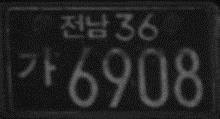0: (137, 47, 169, 109)
3: (114, 10, 135, 41)
6: (68, 46, 100, 108), (136, 10, 158, 41)
8: (175, 47, 203, 107)
9: (101, 47, 132, 108)
가: (17, 44, 56, 87)
전남_O: (58, 12, 110, 40)
